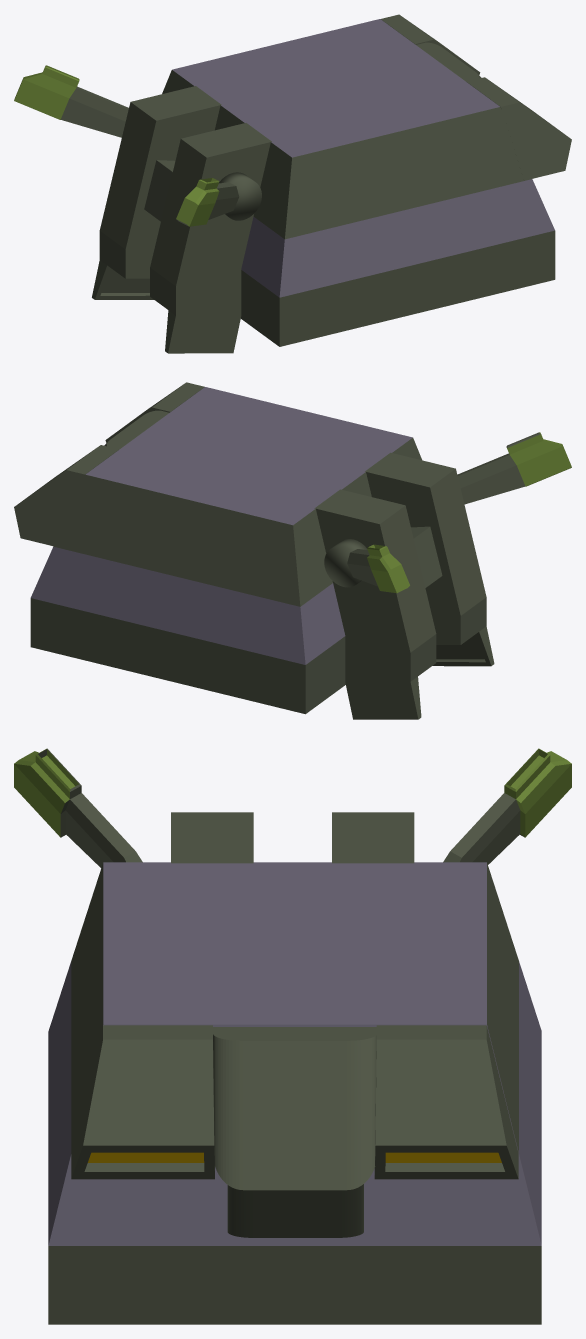
File: _Hijack_body.glb
3 views of the same model, one above another, from view 1: azimuth 30°, elevation 25°; view 2: azimuth 150°, elevation 25°; view 3: azimuth 270°, elevation 25° (orthographic). The views are drawn at different scales.
Visible parts, largest first — view 1: Cube; view 2: Cube; view 3: Cube.
Boxes of the visible parts, <box> form: Cube: <box>14,14,571,353</box>; Cube: <box>14,382,571,719</box>; Cube: <box>14,748,571,1324</box>.
Size of the model in its own units: 1.97 by 0.9917 by 1.43.
